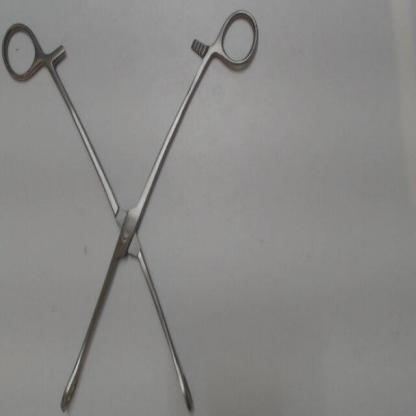Sponge Forceps: (1, 1, 264, 412)
